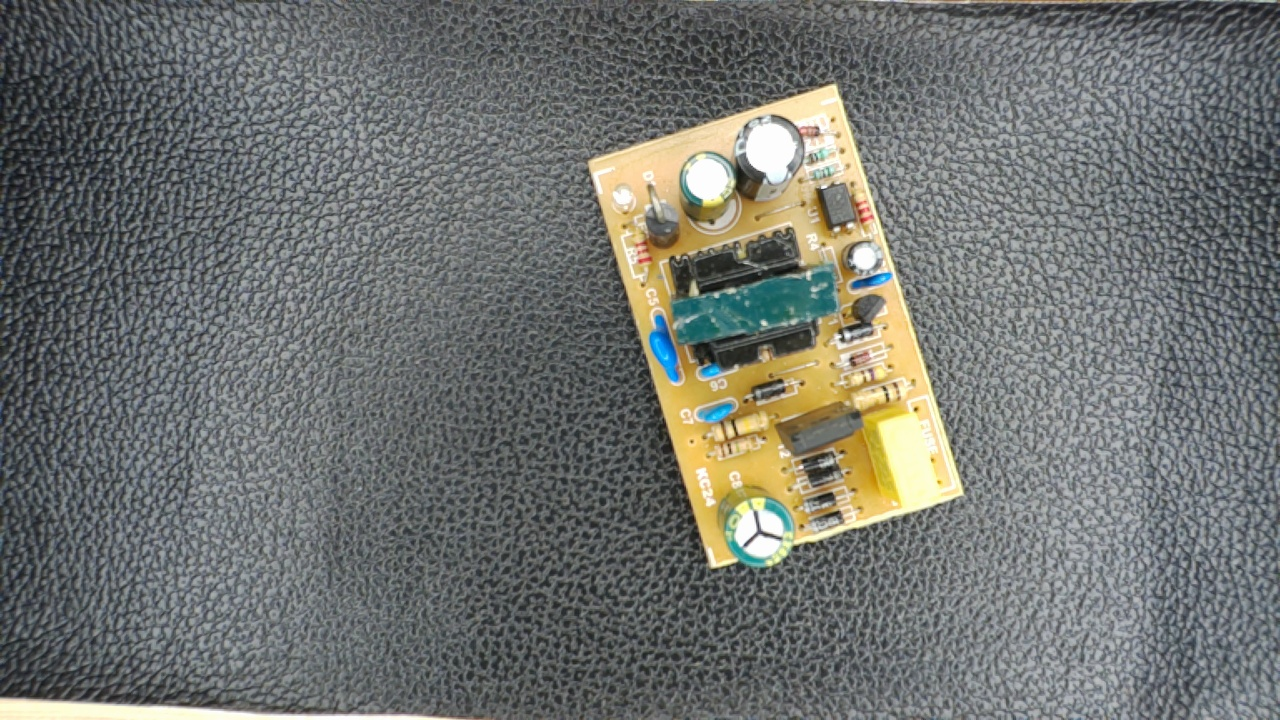hv_capacitor: (717, 488, 795, 567)
mov: (647, 306, 686, 387)
optocoupler: (813, 176, 863, 236)
